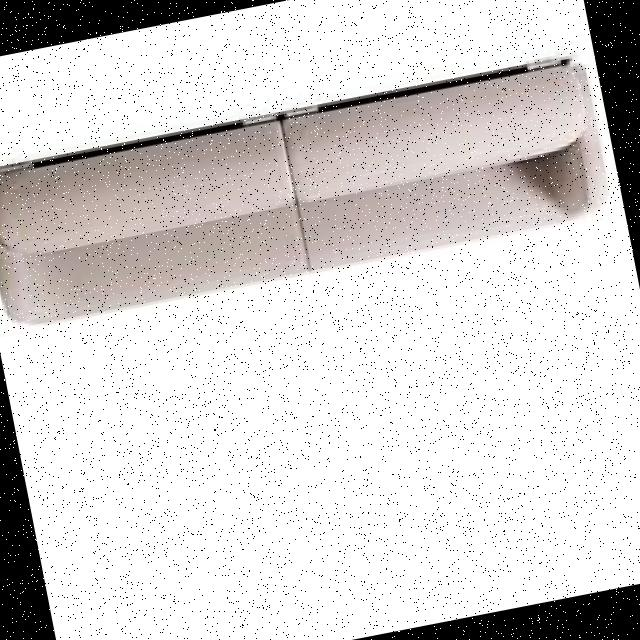Sofa: (0, 41, 617, 359)
